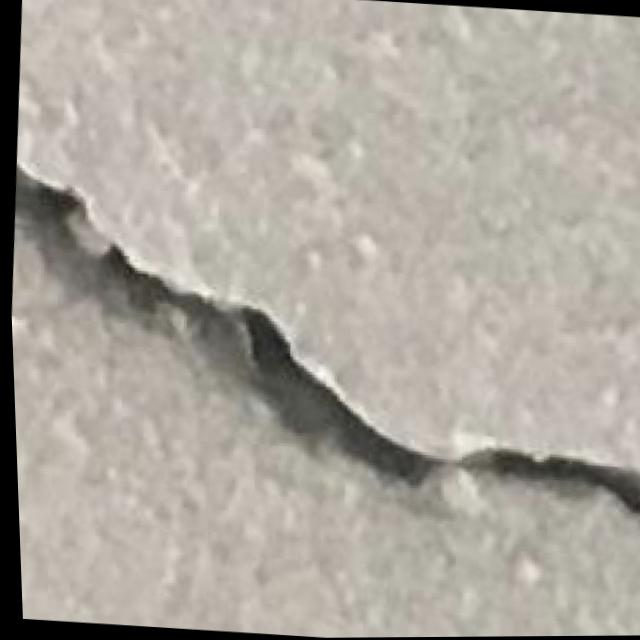Crack: (5, 162, 640, 532)
